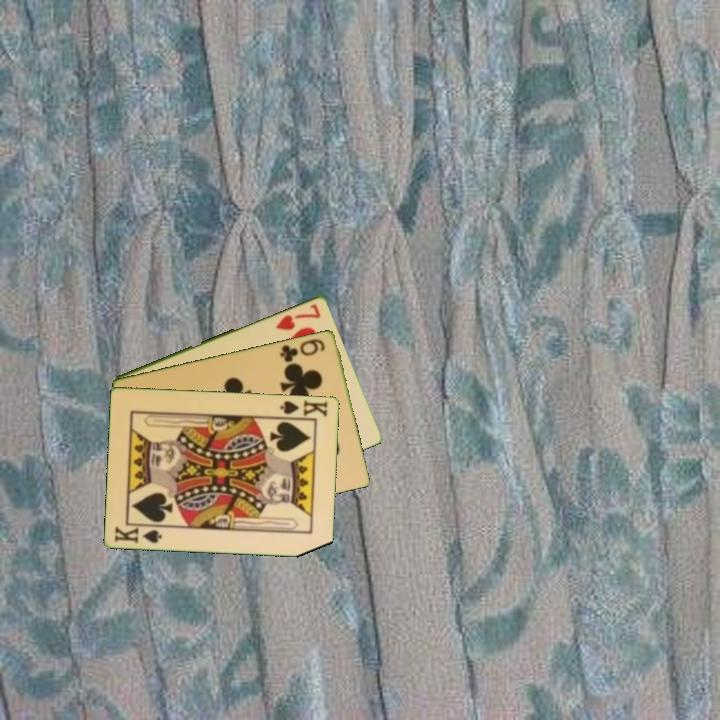6c: (277, 335, 328, 365)
7h: (272, 300, 324, 333)
Ks: (111, 522, 165, 546), (277, 396, 331, 419)
